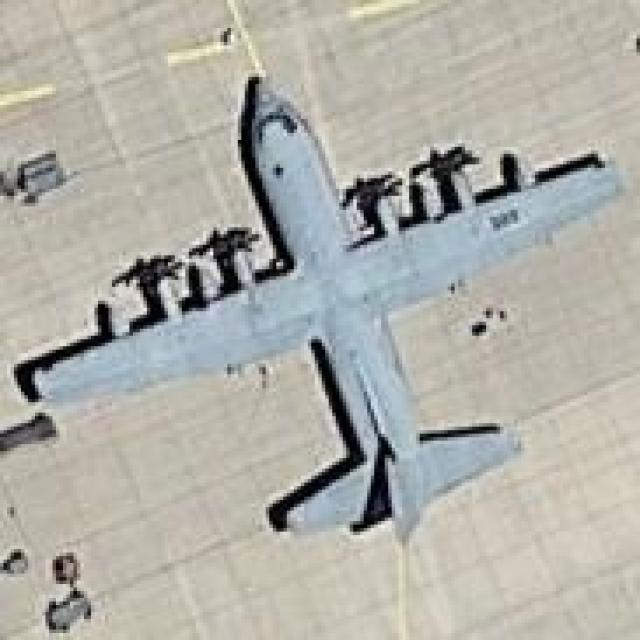C-130_TopDown: (11, 73, 630, 546)
